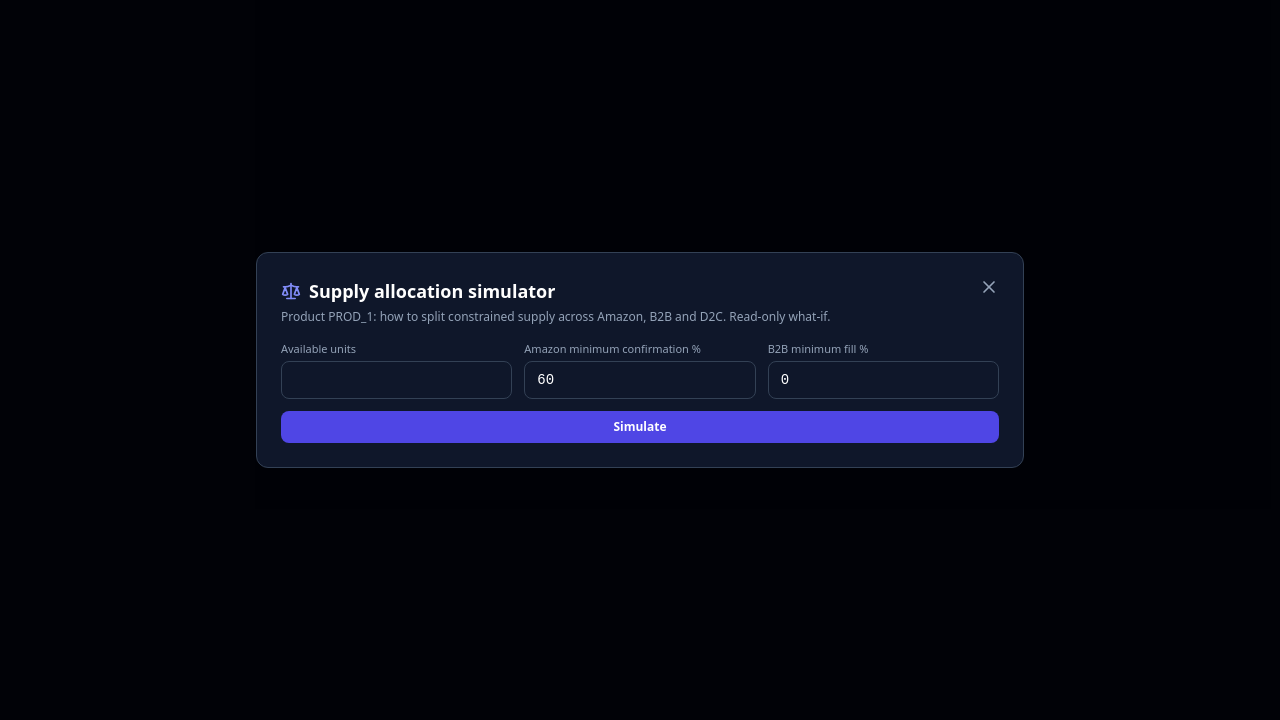
Test case: AllocationModal › sends the inputs as fractions and shows each strategy with its gap to the best
In the number field labelled "Available units": [397, 380] box [281,361,512,399], type "1200"
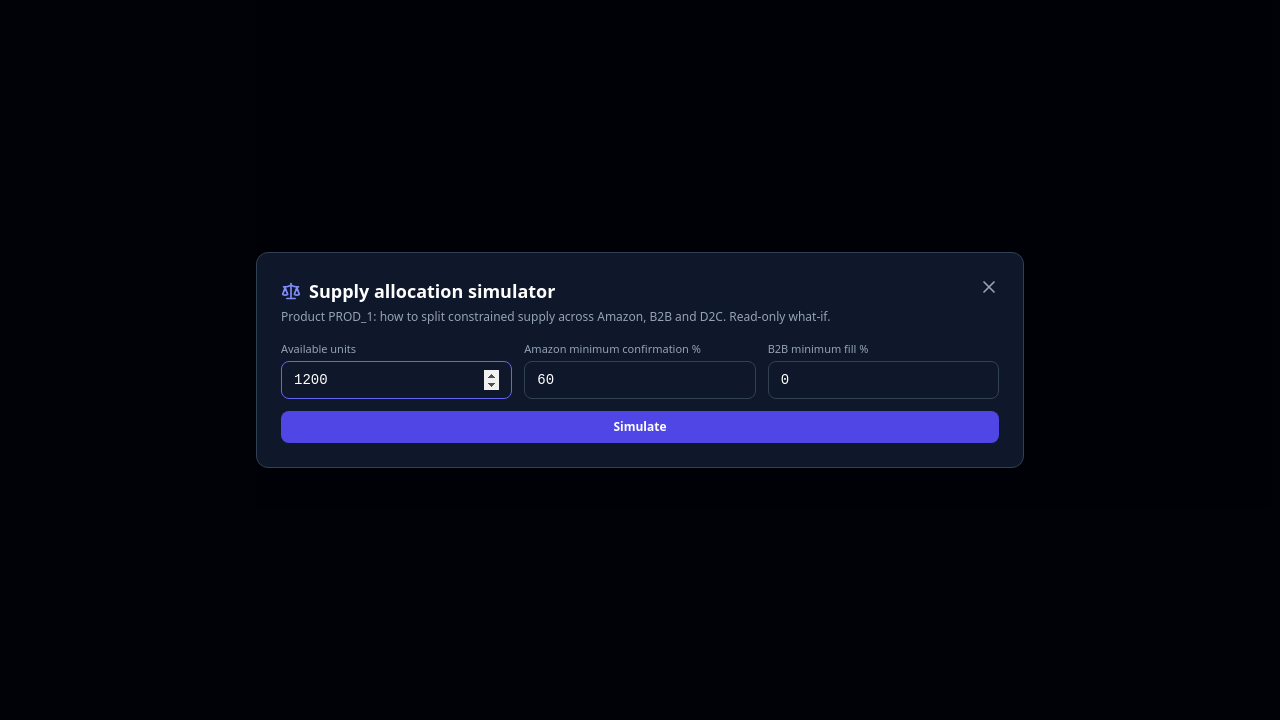
Click the button "Simulate": [640, 427] box [281,411,999,443]
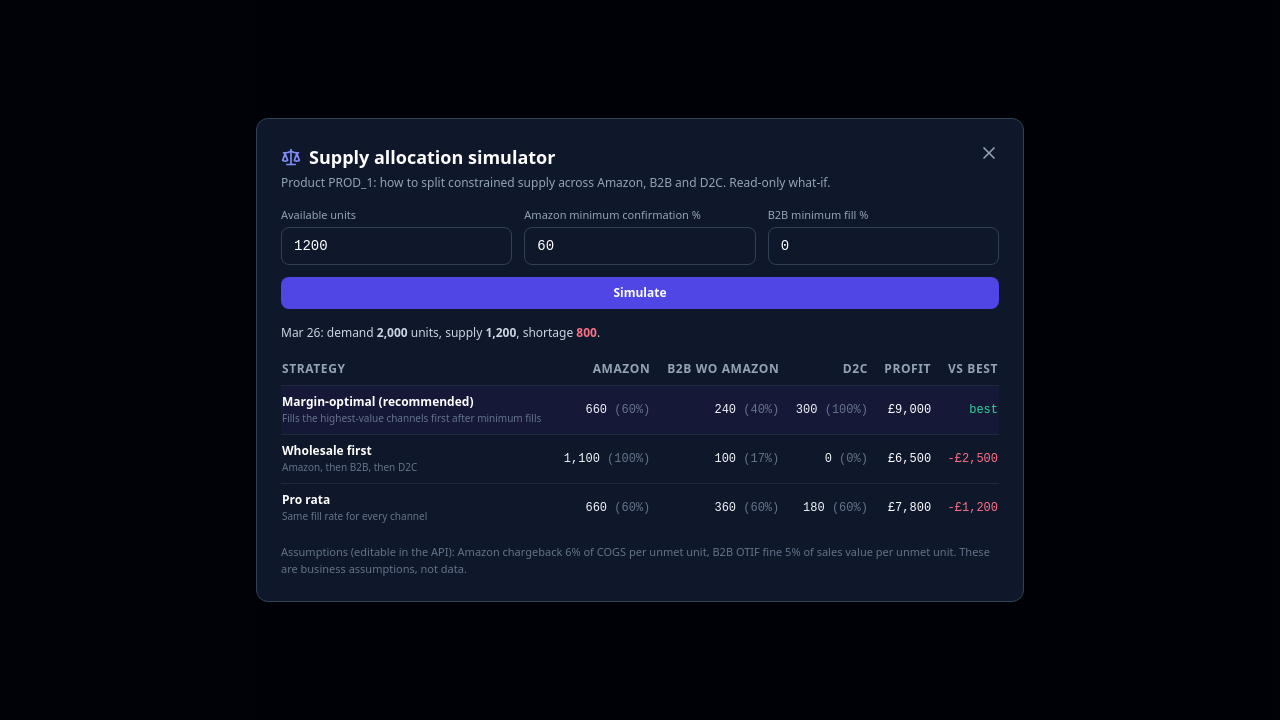
Check: the text "best" is shown, box [939,386,999,435]
Check: the text "-£2,500" is shown, box [939,435,999,484]
Check: the text "Mar 26: demand 2,000 units, supply 1,200, shortage 800." is shown, box [281,324,600,341]
